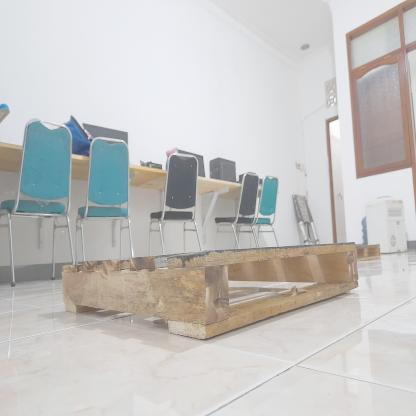Wooden-Pallet: (57, 239, 365, 346)
